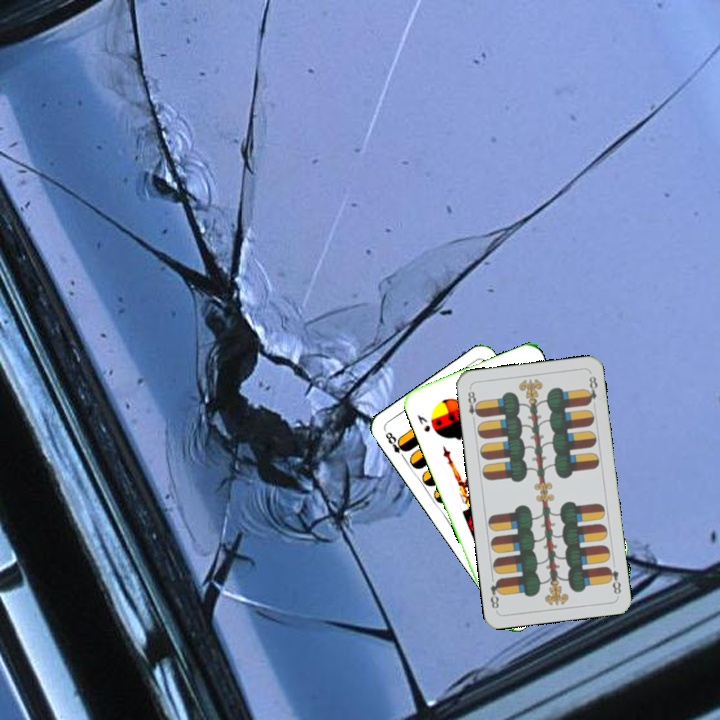E8: (381, 428, 410, 462), (603, 562, 624, 597), (464, 387, 483, 425)
SK: (413, 411, 433, 434)
